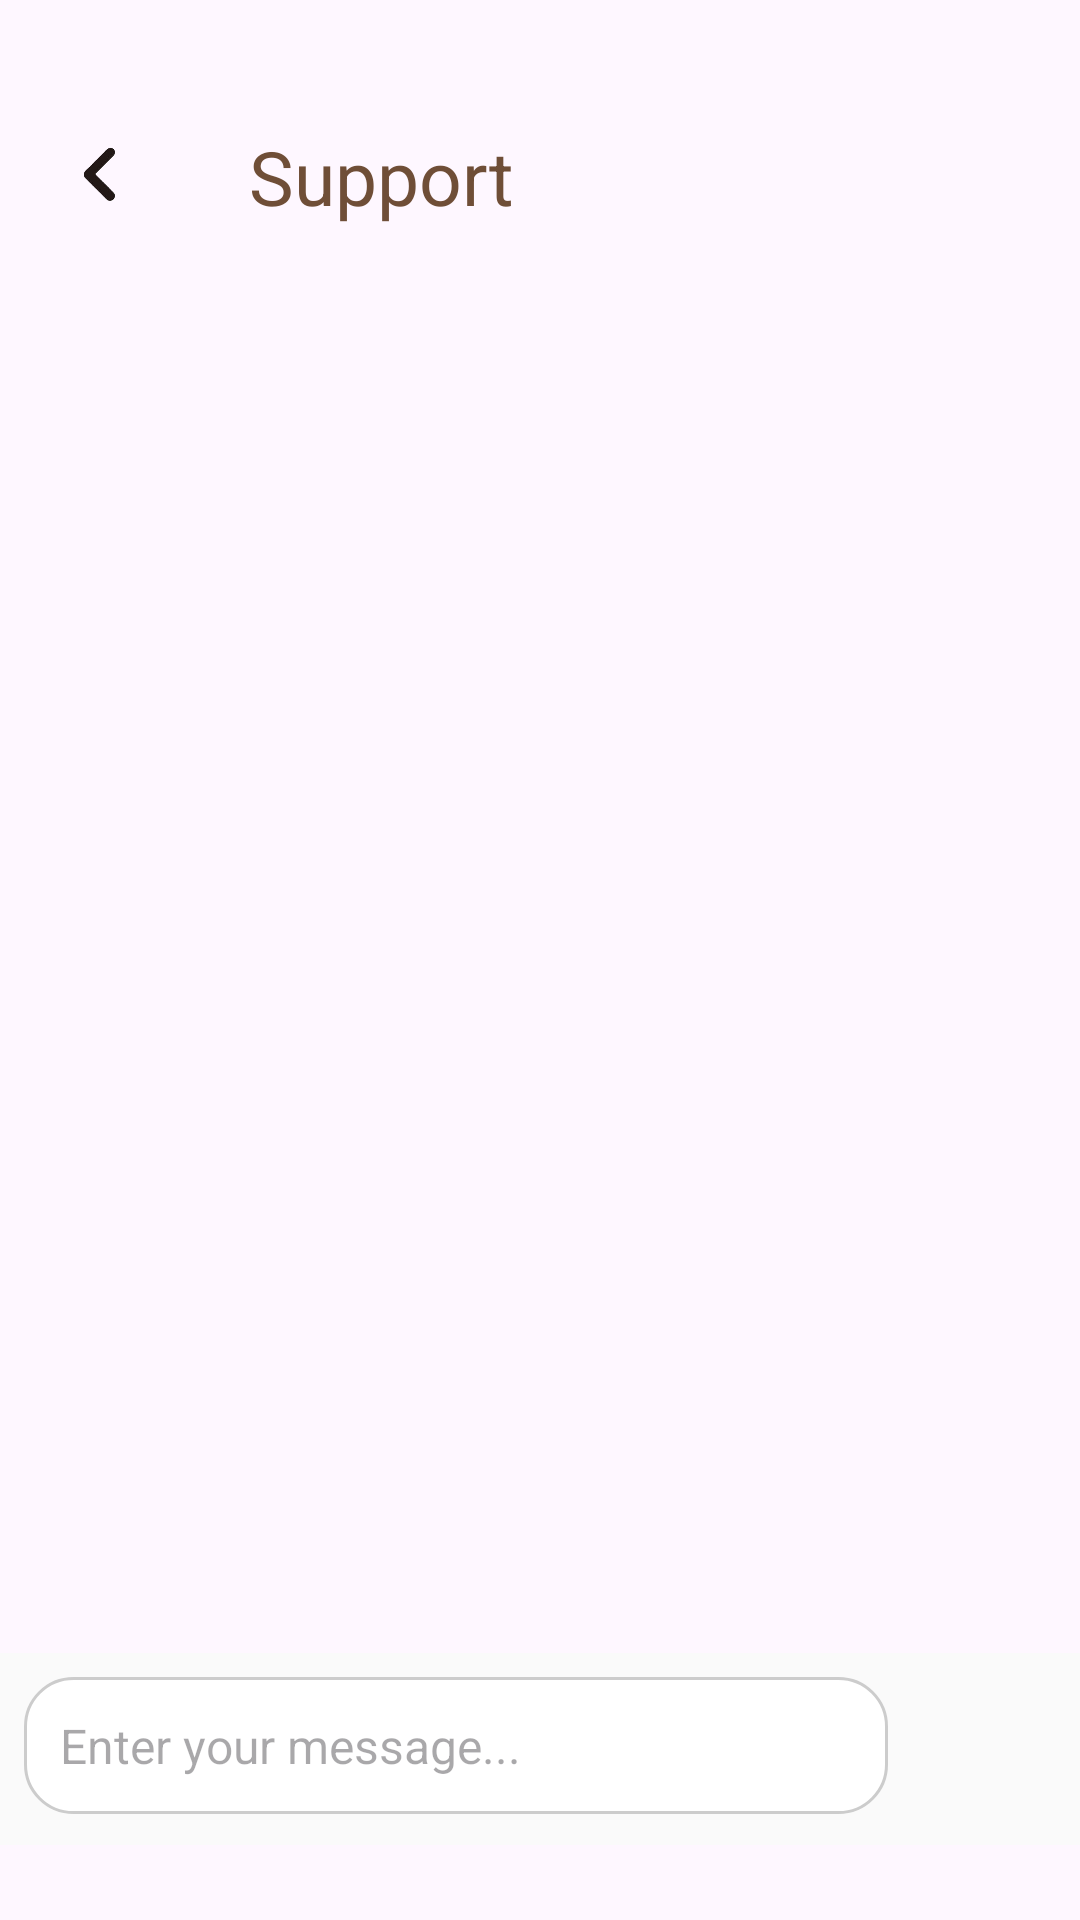

Point at icon controls on the screen. Image size 1080 × 1920, points as point (x, y).
back: point (99, 174)
